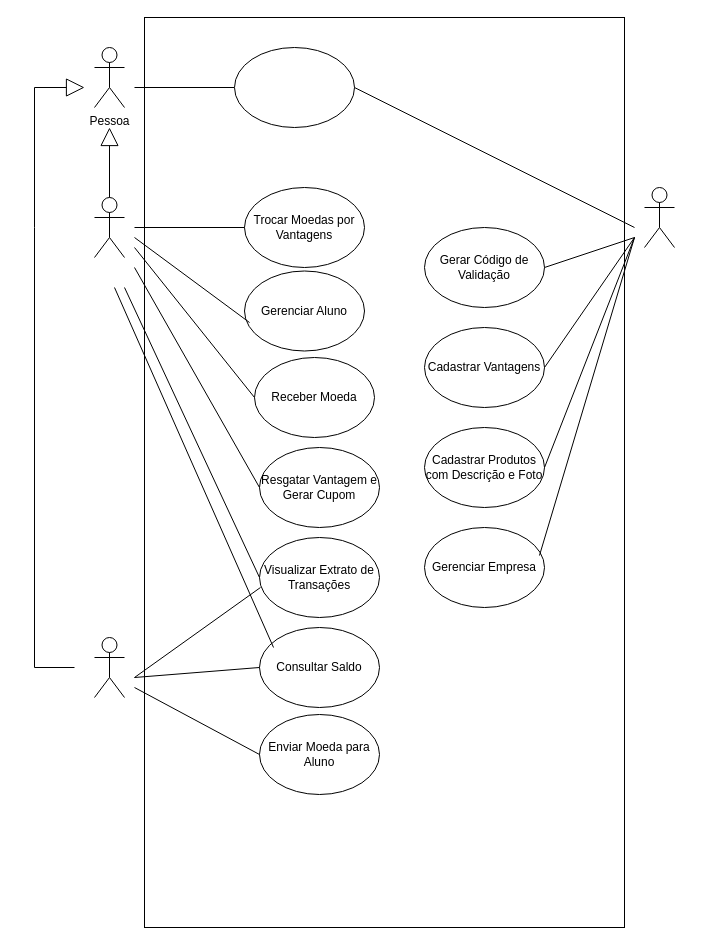
This 701x945 diagram has some shape labels left out. Each missing label, with the centre of its shape:
"Aluno" belongs at pixel 109 227.
"Empresa" belongs at pixel 659 217.
"Login" belongs at pixel 294 87.
"Professor" belongs at pixel 109 667.
